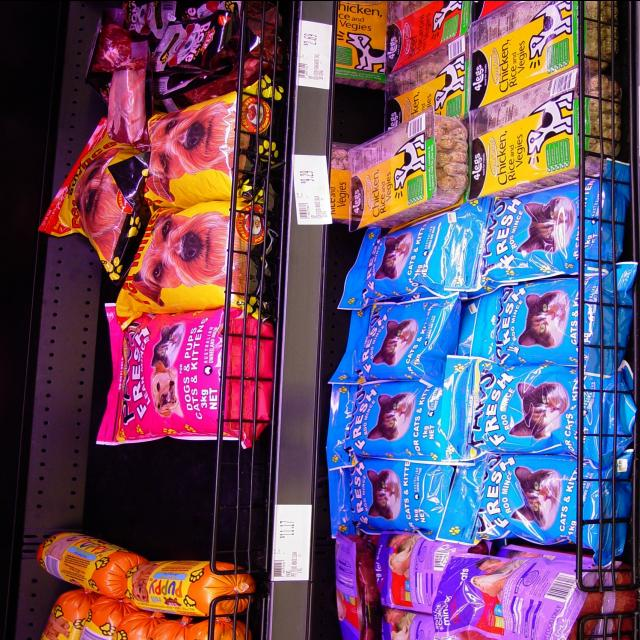empty_space: (77, 450, 239, 526)
